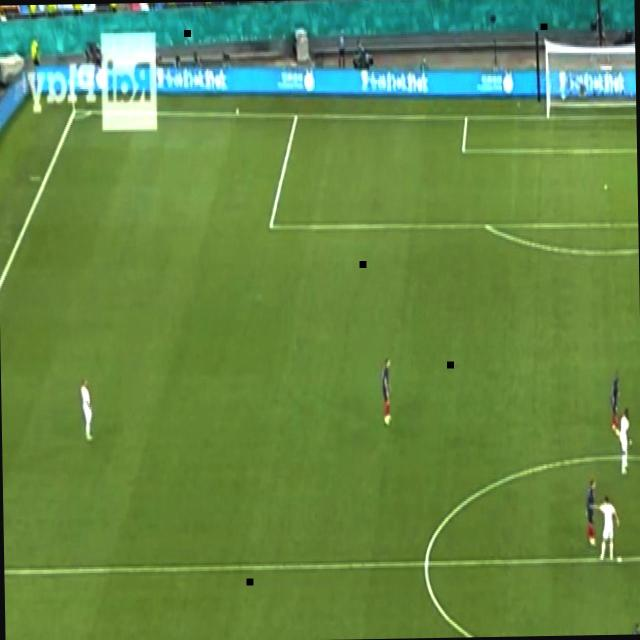player-white: (586, 492, 622, 564), (616, 407, 634, 478), (584, 477, 600, 548), (80, 376, 96, 442), (381, 351, 394, 428), (610, 376, 621, 433), (631, 620, 640, 634)
